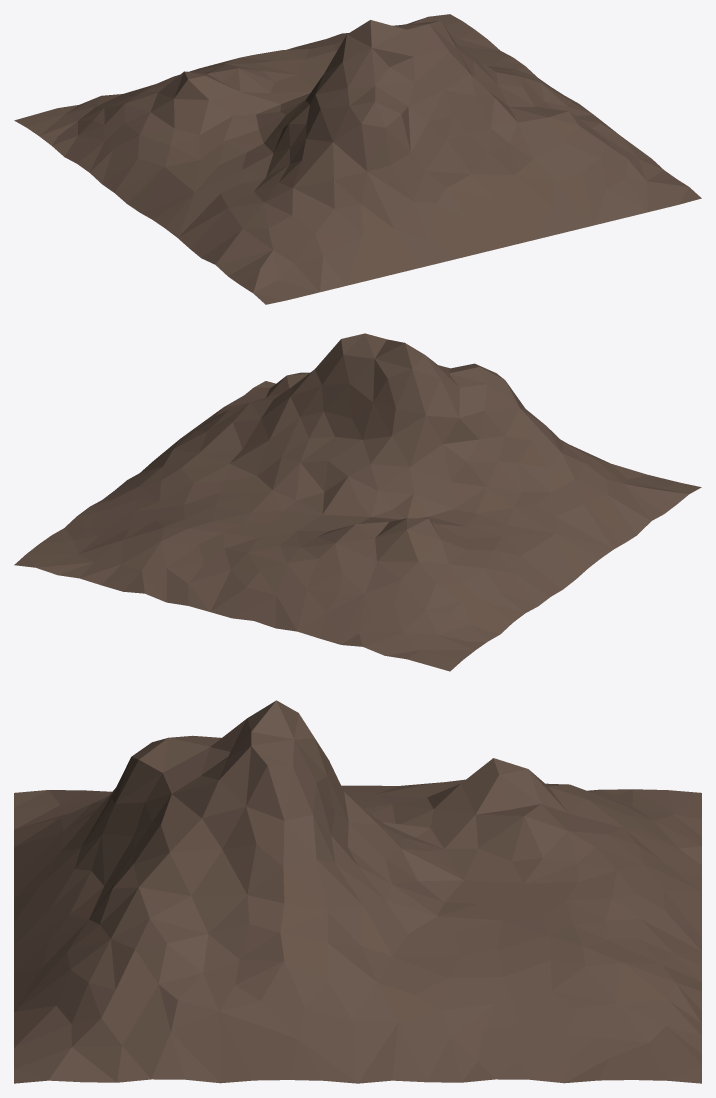
Rendered from terrain_mountain_01.fbx.
The picture shows the model from 3 angles, top to bottom: view 1: azimuth 30°, elevation 25°; view 2: azimuth 150°, elevation 25°; view 3: azimuth 270°, elevation 25°; orthographic projection. The views are drawn at different scales.
Parts seen in each view (by area): view 1: terrain_mountain_01; view 2: terrain_mountain_01; view 3: terrain_mountain_01.
Boxes of the visible parts, x1=… form: terrain_mountain_01: x1=14, y1=14, x2=701, y2=304; terrain_mountain_01: x1=14, y1=333, x2=701, y2=671; terrain_mountain_01: x1=14, y1=700, x2=701, y2=1083.
Bounding box in the file's own units: 4000 × 1459 × 4000.
